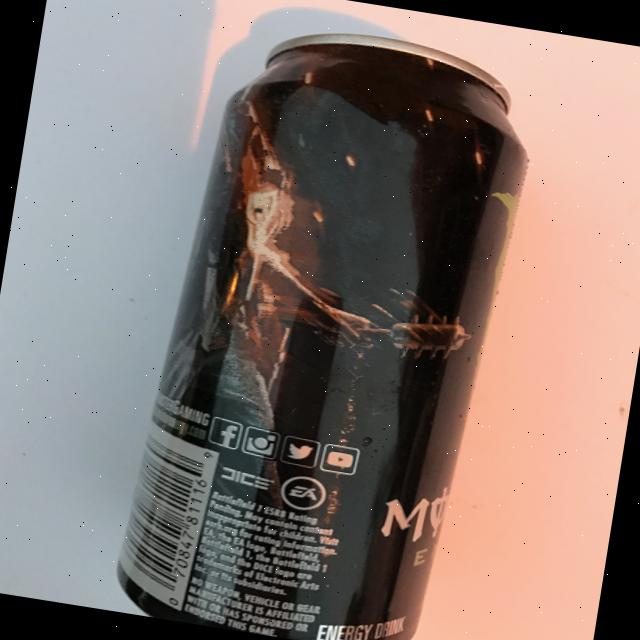metal: (110, 8, 544, 640)
